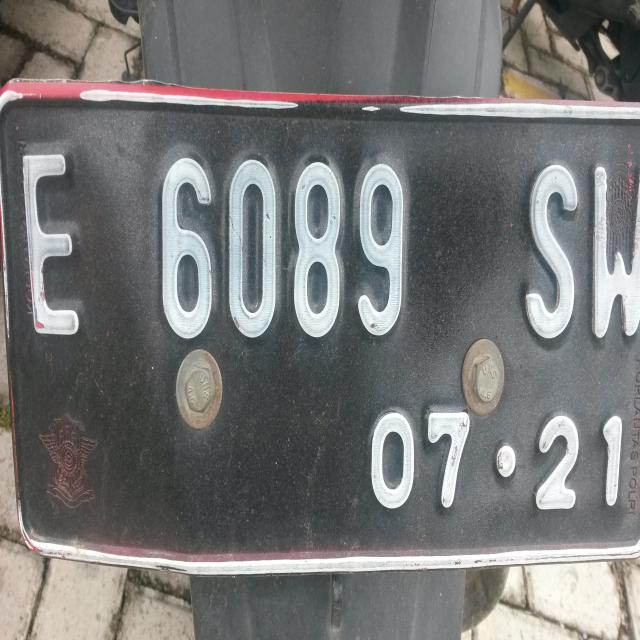plate: (1, 77, 640, 576)
